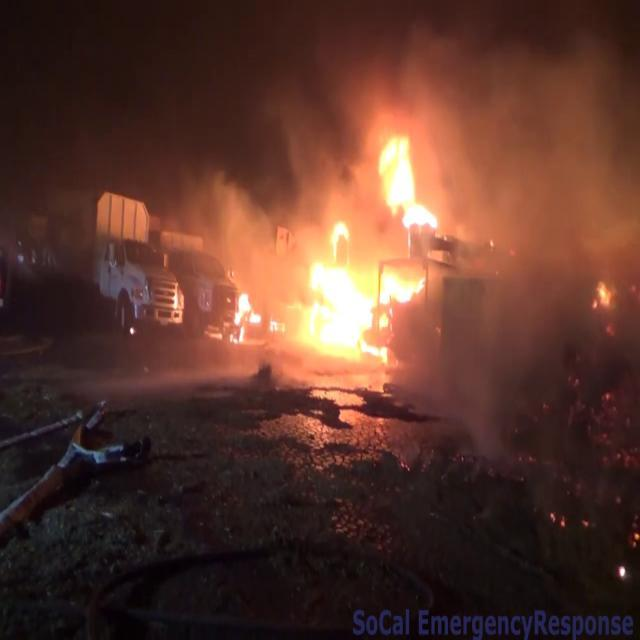Fire: (230, 213, 418, 362), (372, 124, 447, 236)
Smoke: (395, 0, 640, 330)
